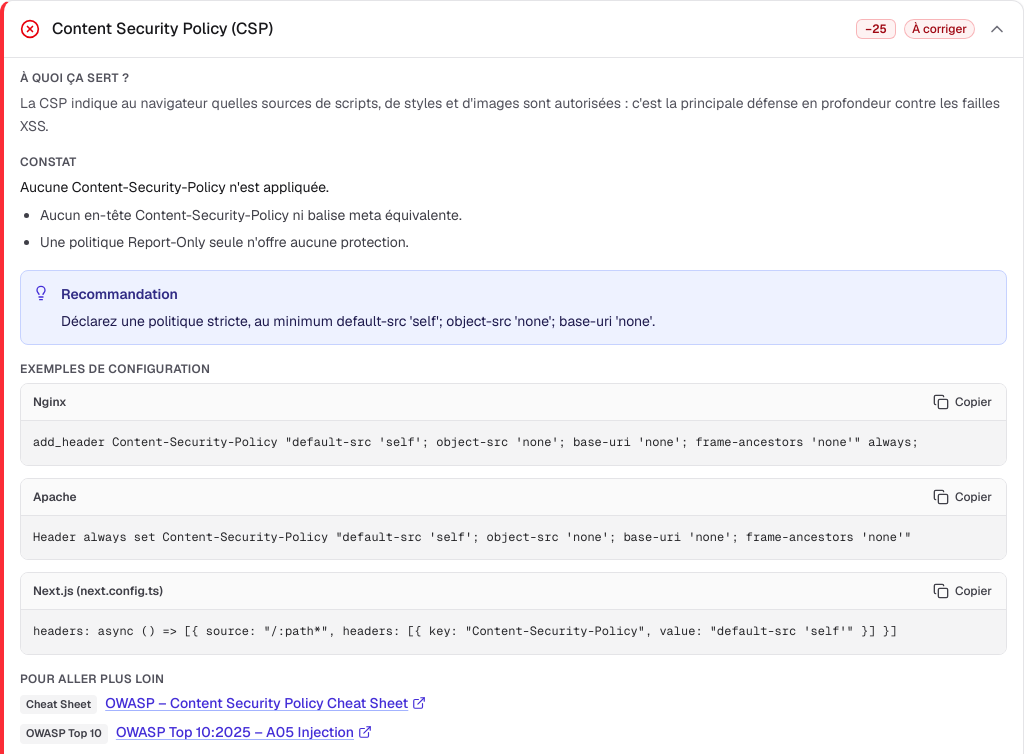
CheckCard › copie un exemple dans le presse-papiers et le confirme
Click the button with aria-label "Copier l'exemple Nginx".
click(962, 402)  # box [925,390,1000,414]
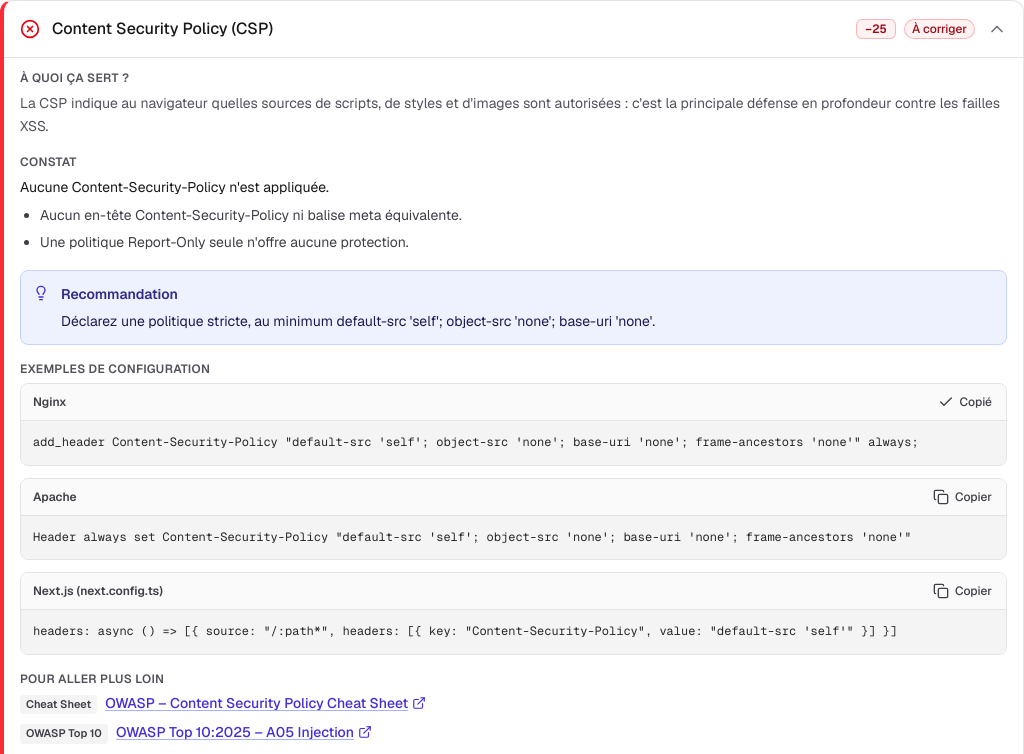
Expected: the text "Copié" is shown, [960,394,992,410]
